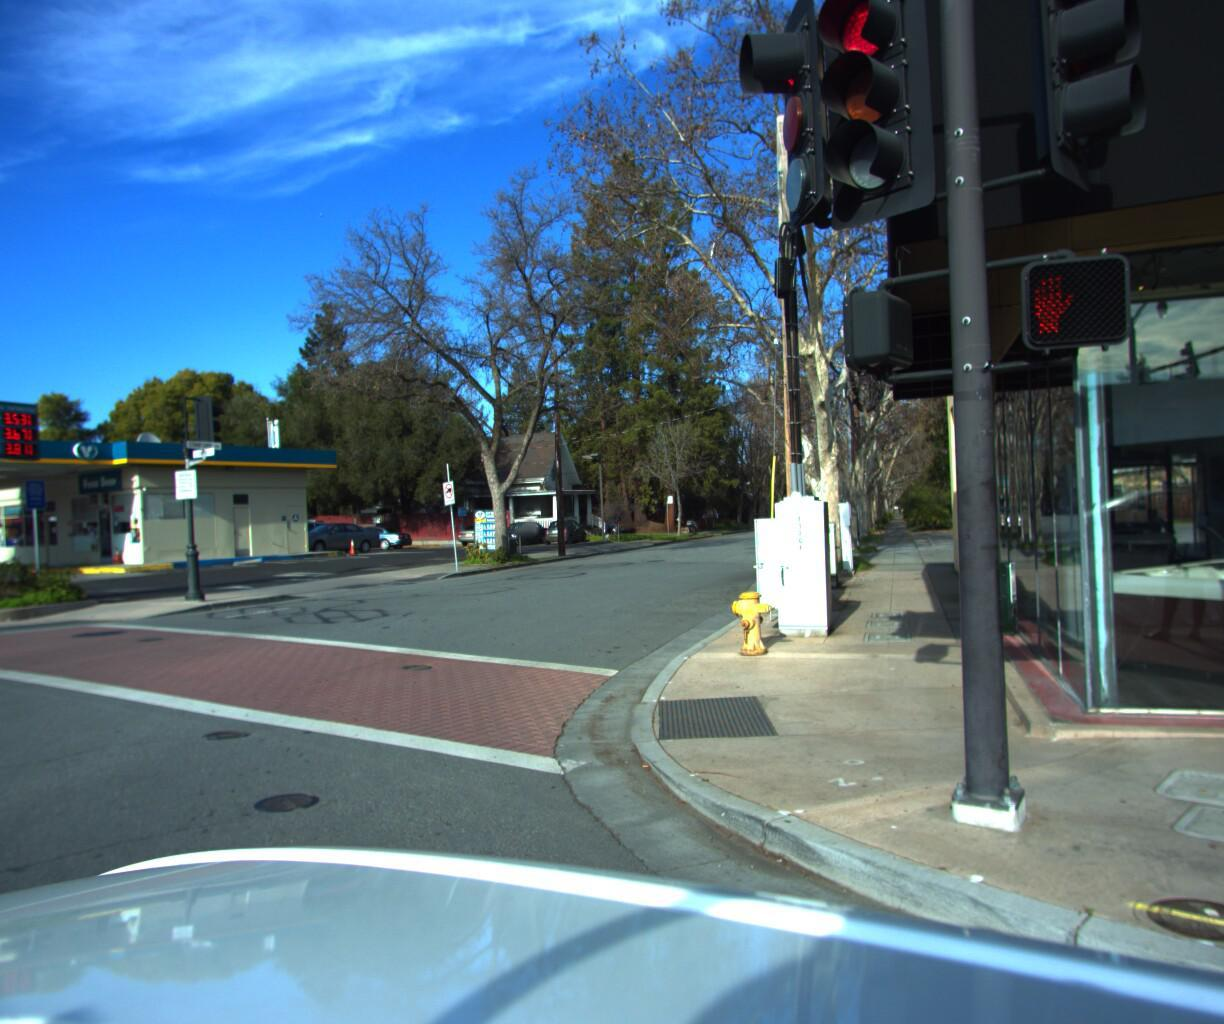car: (274, 514, 386, 554), (323, 518, 418, 548), (451, 513, 512, 542), (489, 513, 547, 541), (539, 510, 591, 540)
